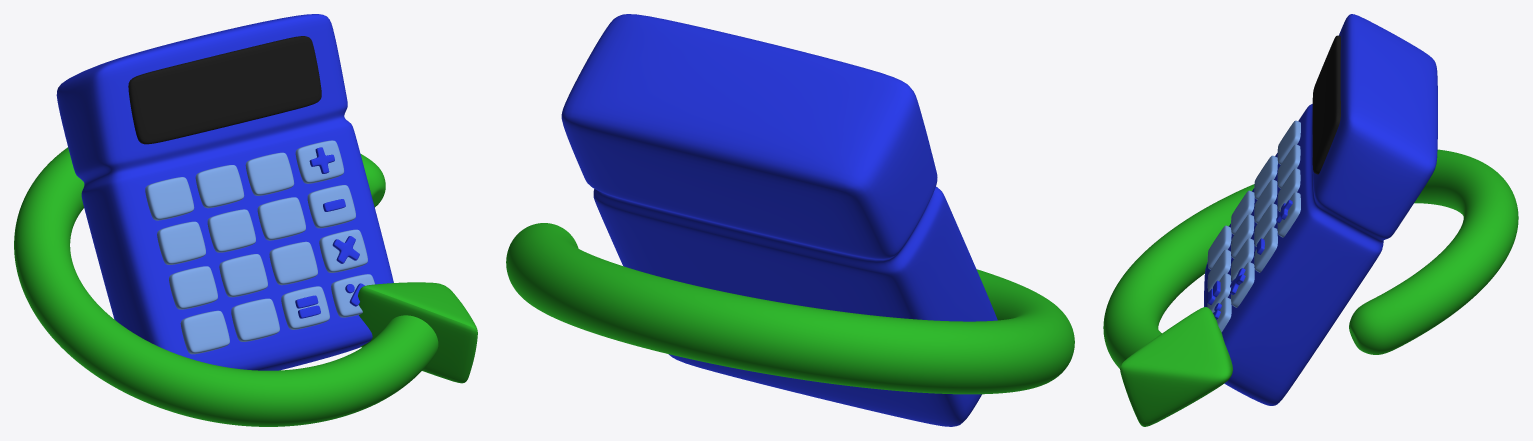
The model's file is recalculating-3d-icon-306433971014.glb.
The picture shows the model from 3 angles, left to right: view 1: azimuth 30°, elevation 25°; view 2: azimuth 150°, elevation 25°; view 3: azimuth 270°, elevation 25°; orthographic projection. The views are drawn at different scales.
Visible parts, largest first — view 1: Body, Arrow, Buttons, Screen, Function Buttons Mark; view 2: Body, Arrow; view 3: Body, Arrow, Buttons, Screen, Function Buttons Mark.
Part boxes in pixels (x1,y1,x2,y2): Body: (56,14,393,370); Arrow: (14,147,477,426); Buttons: (145,140,374,354); Screen: (128,36,321,144); Function Buttons Mark: (295,147,364,318); Body: (561,14,997,426); Arrow: (506,223,1074,394); Body: (1204,14,1437,405); Arrow: (1103,149,1518,426); Buttons: (1207,120,1300,332); Screen: (1312,35,1340,174); Function Buttons Mark: (1207,200,1292,319).
Size of the model in its own units: 1.51 by 1.18 by 1.49.
